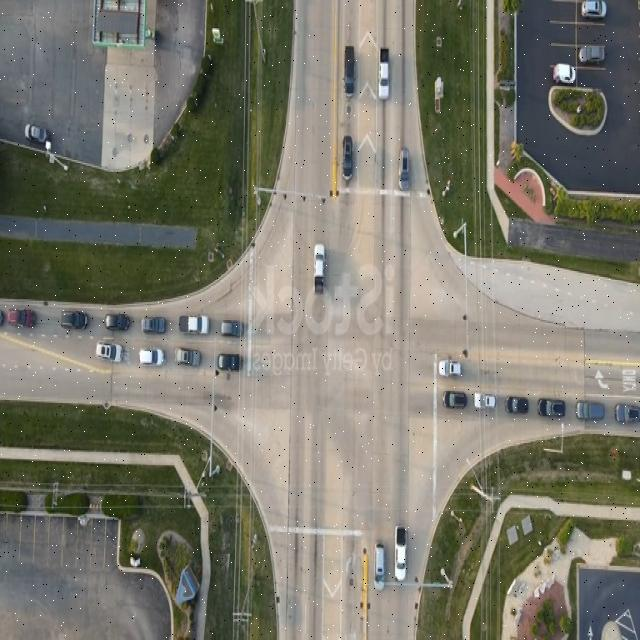car: (344, 47, 356, 99), (378, 50, 390, 100), (576, 402, 604, 422), (538, 400, 566, 420), (97, 344, 123, 364), (62, 312, 88, 332), (375, 544, 386, 590), (616, 405, 640, 425), (582, 0, 606, 19), (506, 396, 530, 415), (218, 354, 242, 373), (343, 137, 353, 182), (554, 64, 576, 84), (314, 244, 324, 288), (139, 349, 163, 367), (141, 317, 165, 335), (398, 150, 408, 192), (176, 350, 199, 368), (105, 314, 128, 332), (220, 320, 242, 338), (439, 360, 461, 378), (445, 392, 467, 409), (475, 393, 497, 409)
pickup-truck: (24, 125, 50, 151), (394, 528, 406, 582), (9, 308, 37, 328)
